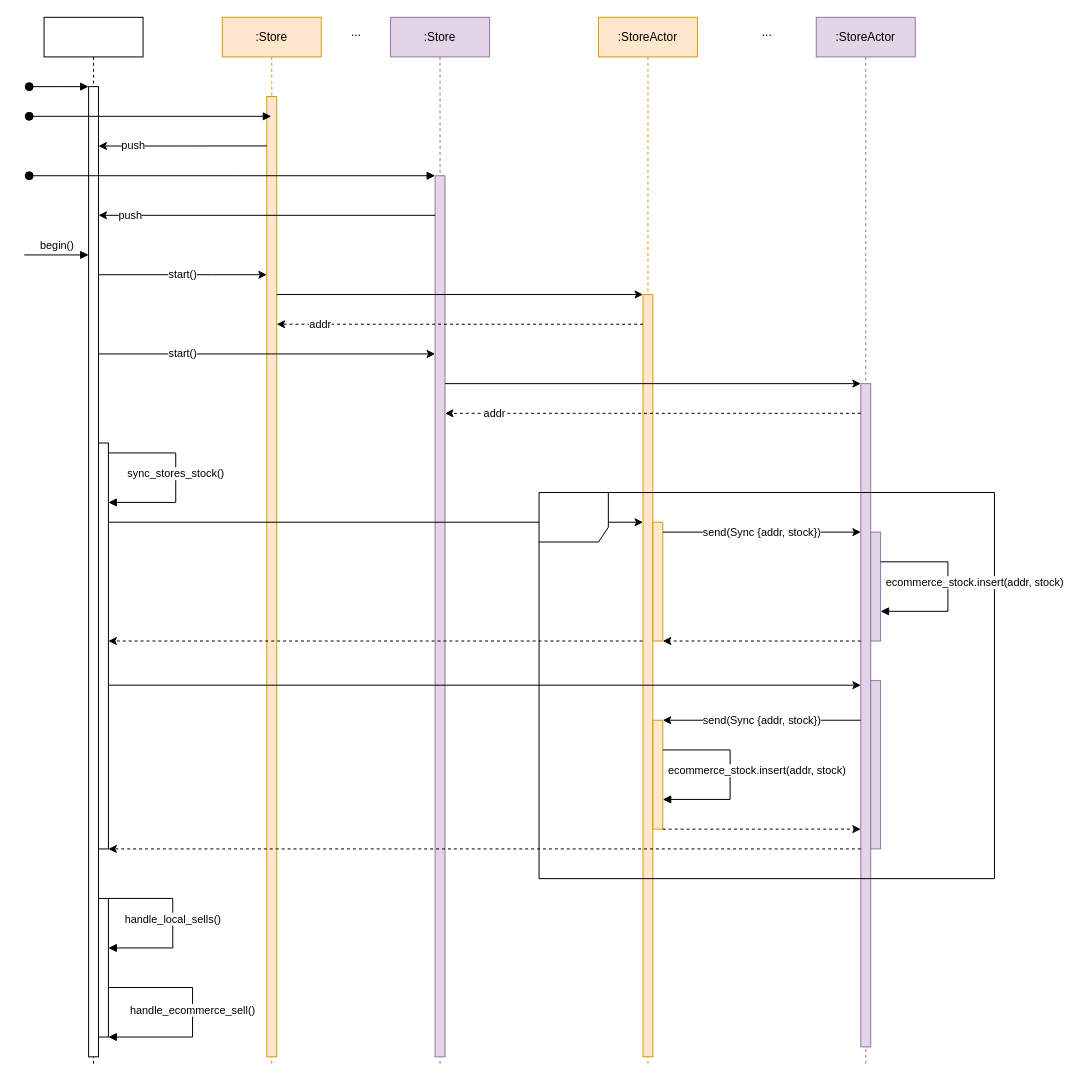
The diagram is 1081 pixels wide and 1084 high, and some of its shapes have lost their labels. The centre of each missing label's shape, as x and y in pixels:
":Network" belongs at [93,541].
"for each store" belongs at [766,685].
